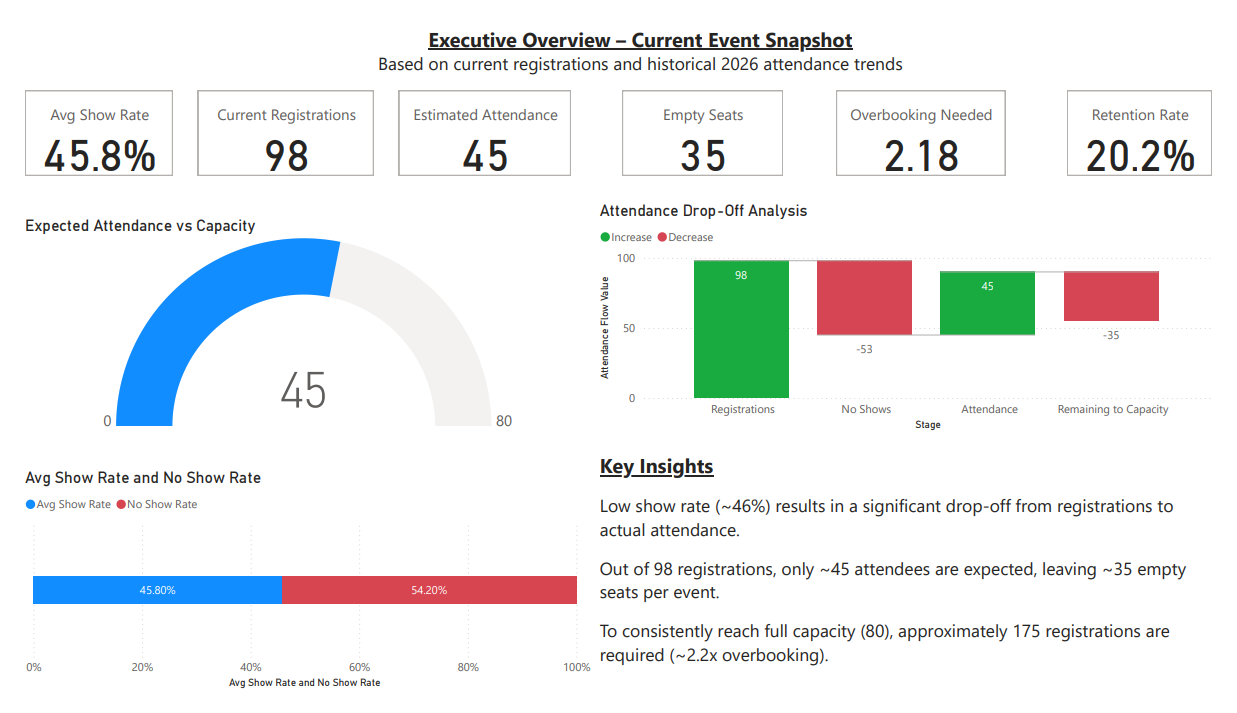

What the dashboard file says about the page in this screenshot:
{"tool":"powerbi","page":{"name":"Overview","canvas":[1280,720],"ordinal":0},"visuals":[{"type":"cardVisual","fields":{"Data":["final_metrics.Avg Show Rate"]},"box":[0,69.7,168.2,101.5],"z":0},{"type":"cardVisual","fields":{"Data":["final_metrics.Overbooking Ratio"]},"box":[868.2,69.7,190.9,101.5],"z":1000},{"type":"cardVisual","fields":{"Data":["final_metrics.Retention Rate"]},"box":[1115.2,69.7,165.2,101.5],"z":2000},{"type":"cardVisual","fields":{"Data":["final_metrics.Attendance Gap"]},"box":[639.4,69.7,181.8,101.5],"z":3000},{"type":"cardVisual","fields":{"Data":["final_metrics.Estimated Attendance"]},"box":[400,69.7,193.9,101.5],"z":4000},{"type":"cardVisual","fields":{"Data":["final_metrics.Current Registrations"]},"box":[184.8,69.7,198.5,101.5],"z":5000},{"type":"gauge","title":"Expected Attendance vs Capacity","fields":{"Y":["final_metrics.Estimated Attendance"]},"box":[0,209.1,615.2,234.8],"z":6000},{"type":"waterfallChart","title":"Attendance Drop-Off Analysis","fields":{"Category":["Attendance_Stages.Stage"],"Y":["Attendance_Stages.Attendance Flow Value"]},"box":[615.5,193,664.8,250.7],"z":7000},{"type":"hundredPercentStackedBarChart","fields":{"Y":["final_metrics.Avg Show Rate","final_metrics.No Show Rate"]},"box":[0,478.8,615.2,240.9],"z":8000},{"type":"textbox","box":[245.5,0,836.4,69.7],"z":9000},{"type":"textbox","box":[615.5,456.3,646.5,263.4],"z":10000}]}

Visuals, with their boxes in screenshot pixels (x1, y1, x2, y2), scaled from the page's 1280x720 canvas onto the 1237x713 screenshot:
cardVisual - final_metrics.Avg Show Rate: <bbox>0, 69, 163, 170</bbox>
cardVisual - final_metrics.Overbooking Ratio: <bbox>839, 69, 1024, 170</bbox>
cardVisual - final_metrics.Retention Rate: <bbox>1078, 69, 1236, 170</bbox>
cardVisual - final_metrics.Attendance Gap: <bbox>618, 69, 794, 170</bbox>
cardVisual - final_metrics.Estimated Attendance: <bbox>387, 69, 574, 170</bbox>
cardVisual - final_metrics.Current Registrations: <bbox>179, 69, 370, 170</bbox>
"Expected Attendance vs Capacity" gauge: <bbox>0, 207, 595, 440</bbox>
"Attendance Drop-Off Analysis" waterfallChart: <bbox>595, 191, 1236, 439</bbox>
hundredPercentStackedBarChart - final_metrics.Avg Show Rate x final_metrics.No Show Rate: <bbox>0, 474, 595, 712</bbox>
textbox: <bbox>237, 0, 1046, 69</bbox>
textbox: <bbox>595, 452, 1220, 712</bbox>
